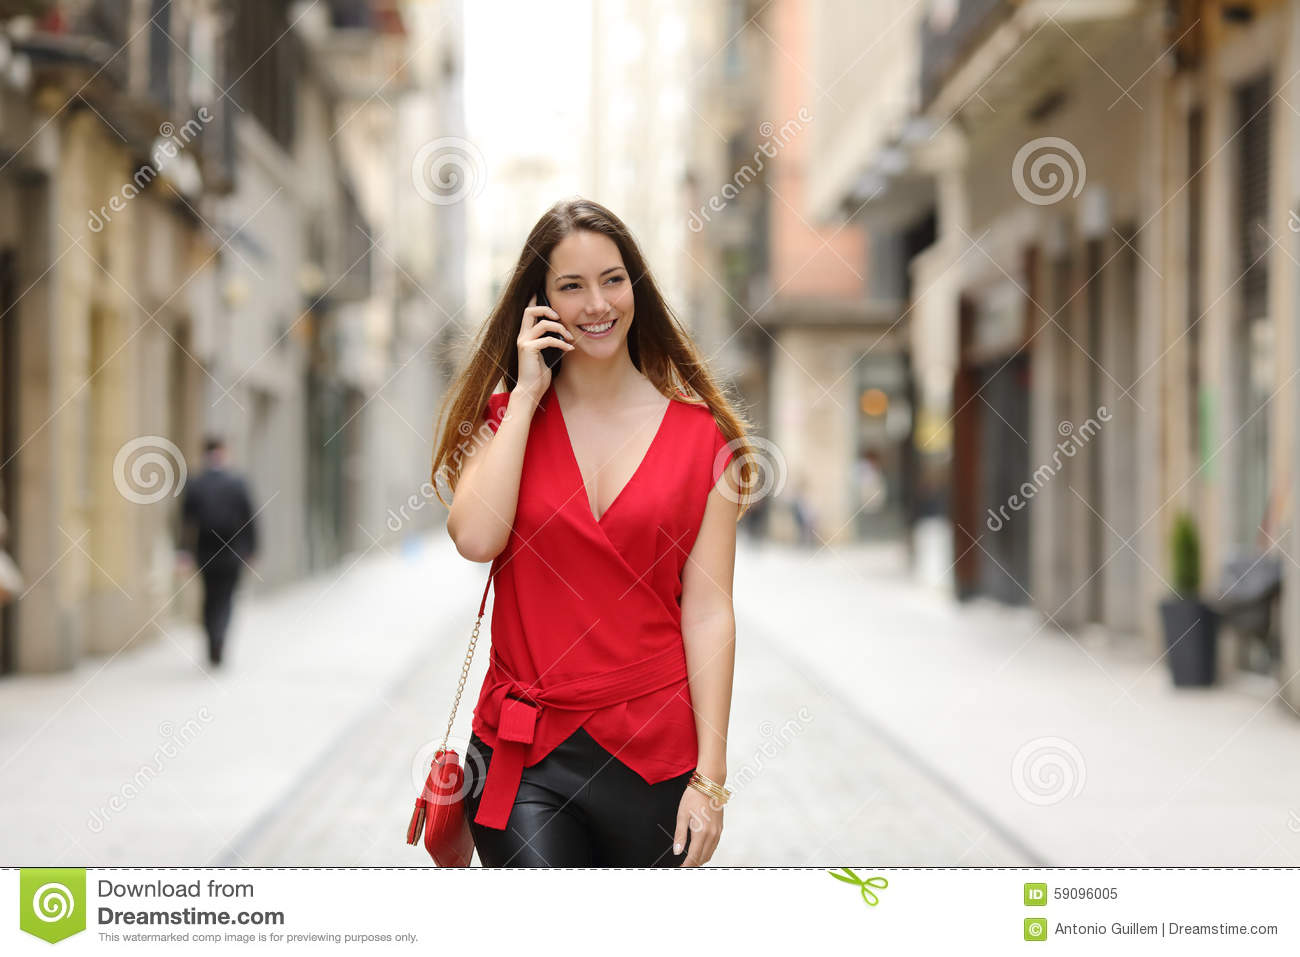phone: (528, 277, 561, 367)
talk: (514, 260, 632, 411)
